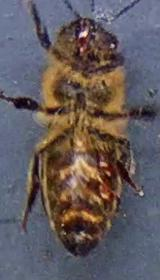varroa_mite: (90, 142, 120, 192)
